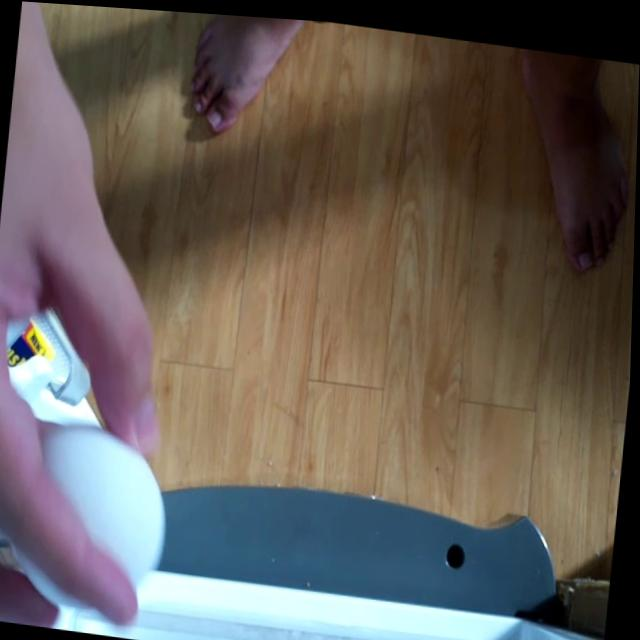egg: (7, 413, 176, 613)
